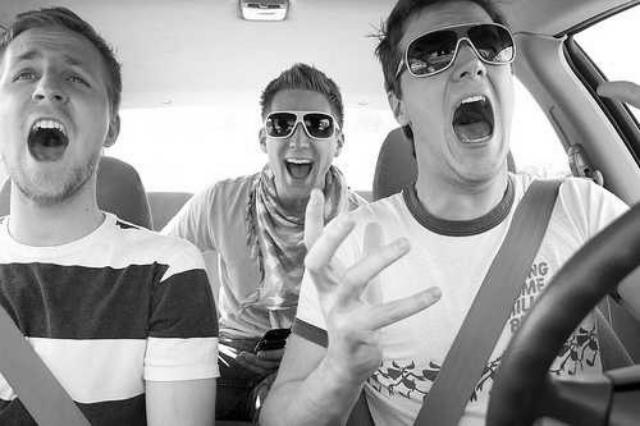SafeDriving: (58, 62, 95, 94), (7, 58, 43, 90)
Seatbelt: (410, 176, 576, 426), (0, 301, 94, 426)
